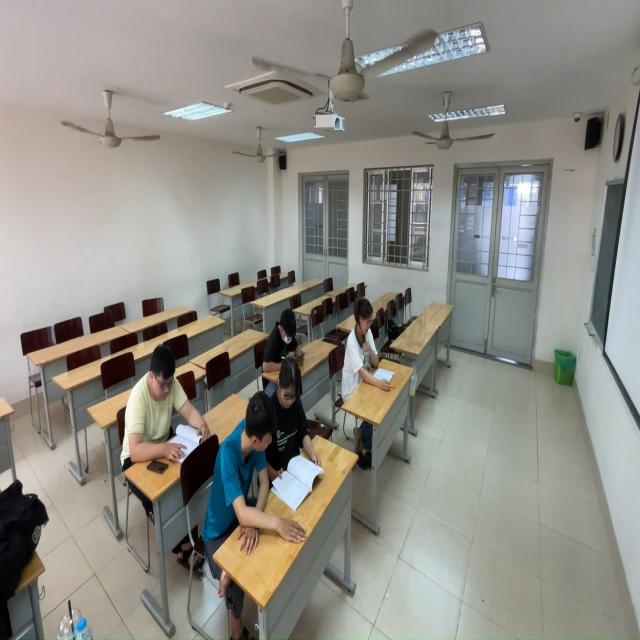read: (120, 345, 213, 480), (209, 393, 283, 548), (270, 355, 323, 487), (345, 291, 392, 403), (264, 306, 306, 368)
